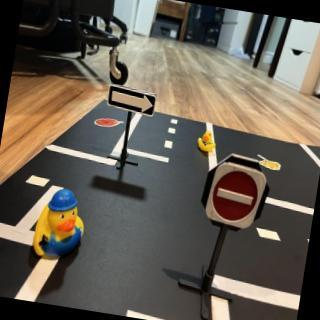duck_regular: (196, 129, 220, 156)
duck_specialty: (31, 186, 90, 266)
sign_noentry: (203, 163, 269, 232)
sign_oneway_right: (106, 86, 158, 119)
